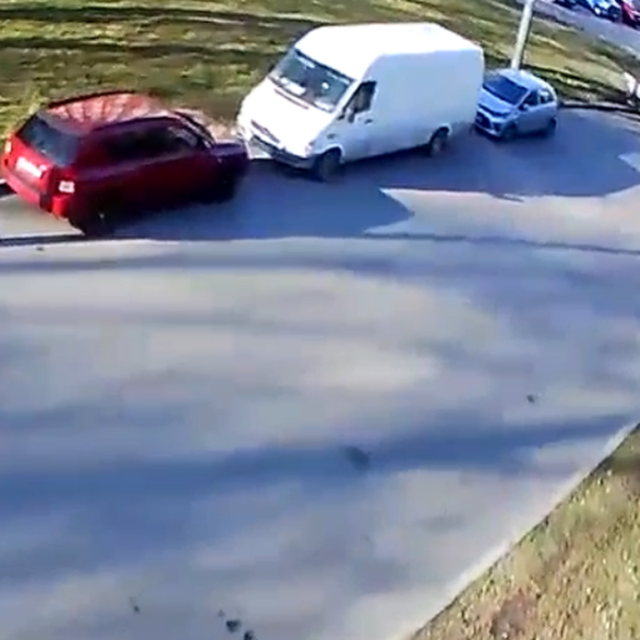car: (2, 90, 248, 236), (460, 66, 558, 140)
